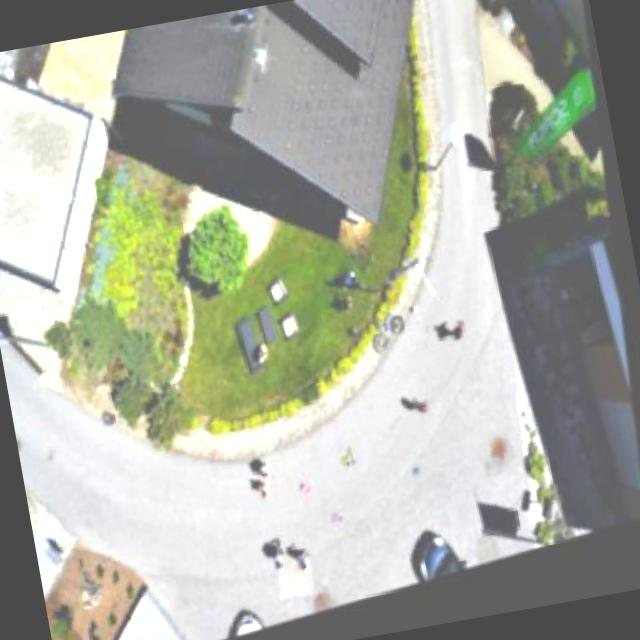Person: (253, 474, 279, 511), (452, 324, 482, 354), (256, 341, 281, 375), (272, 546, 300, 576), (300, 550, 325, 582), (418, 403, 447, 426), (342, 294, 364, 320), (260, 460, 282, 483), (349, 270, 372, 289)
